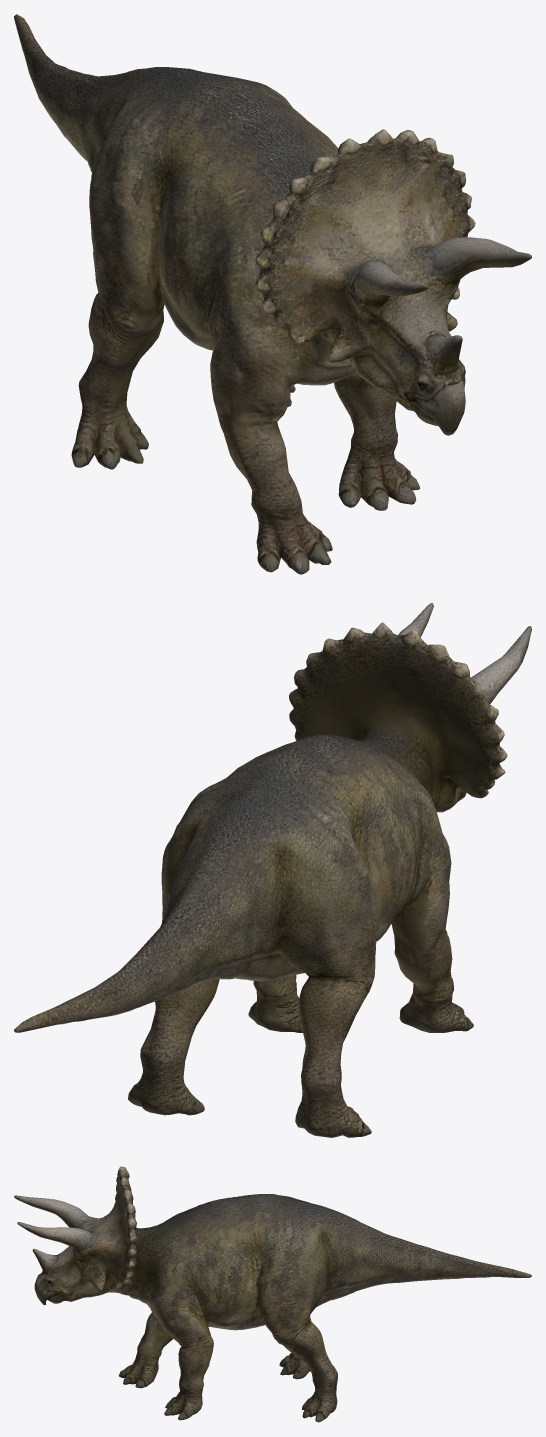
File: triceratops.glb
3 views of the same model, one above another, from view 1: azimuth 30°, elevation 25°; view 2: azimuth 150°, elevation 25°; view 3: azimuth 270°, elevation 25° (orthographic). The views are drawn at different scales.
Visible parts, largest first — view 1: dino; view 2: dino; view 3: dino.
Boxes of the visible parts, x1=… form: dino: x1=14, y1=14, x2=531, y2=574; dino: x1=14, y1=603, x2=531, y2=1137; dino: x1=14, y1=1166, x2=531, y2=1422.
Size of the model in its own units: 2.58 by 4.24 by 9.
Materials: 1 (1 with a texture image).
